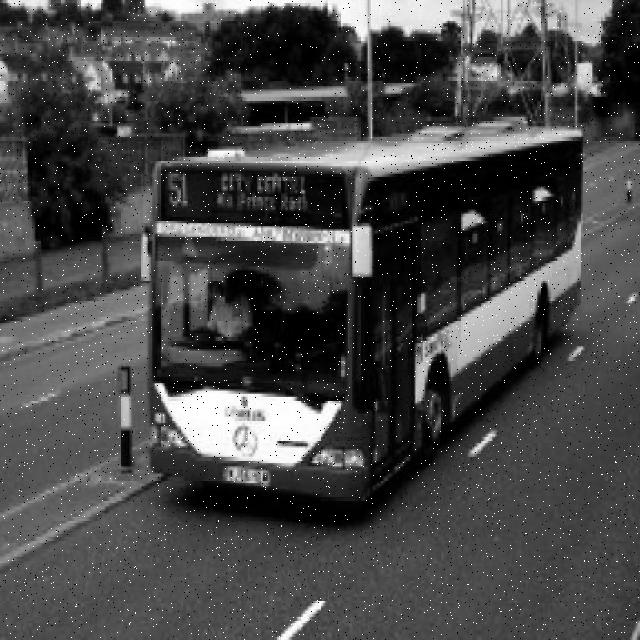Bus: (141, 114, 584, 505)
